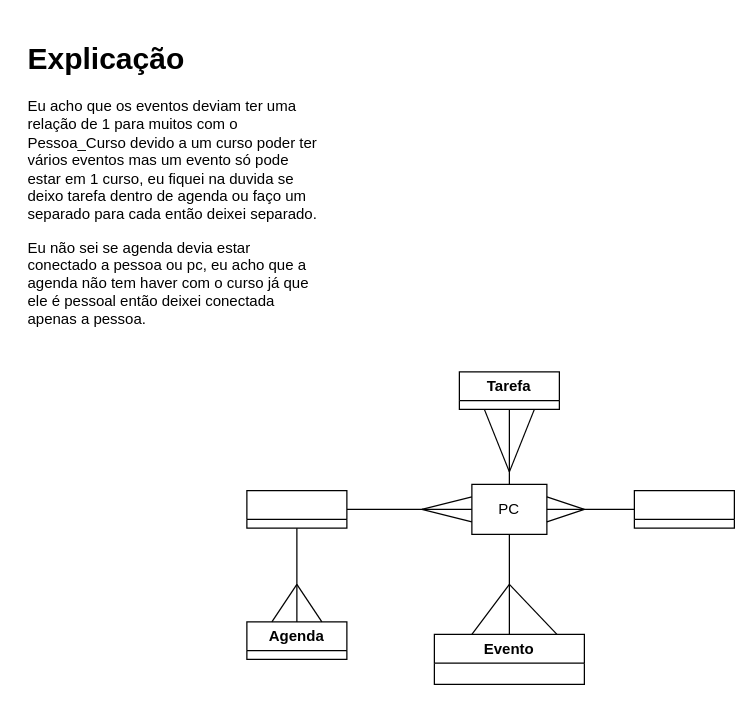
The diagram is 756 pixels wide and 706 high, and some of its shapes have lost their labels. The centre of each missing label's shape, as x and y in pixels:
Curso: (683,508)
Pessoa: (296,508)
